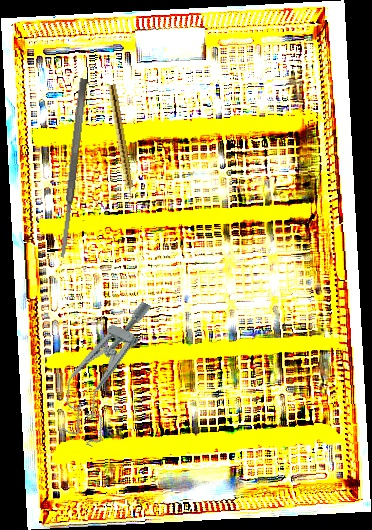Handpiece: (105, 84, 137, 202)
Spatula Surgical: (57, 78, 89, 258)
Speculum: (47, 287, 162, 450)
